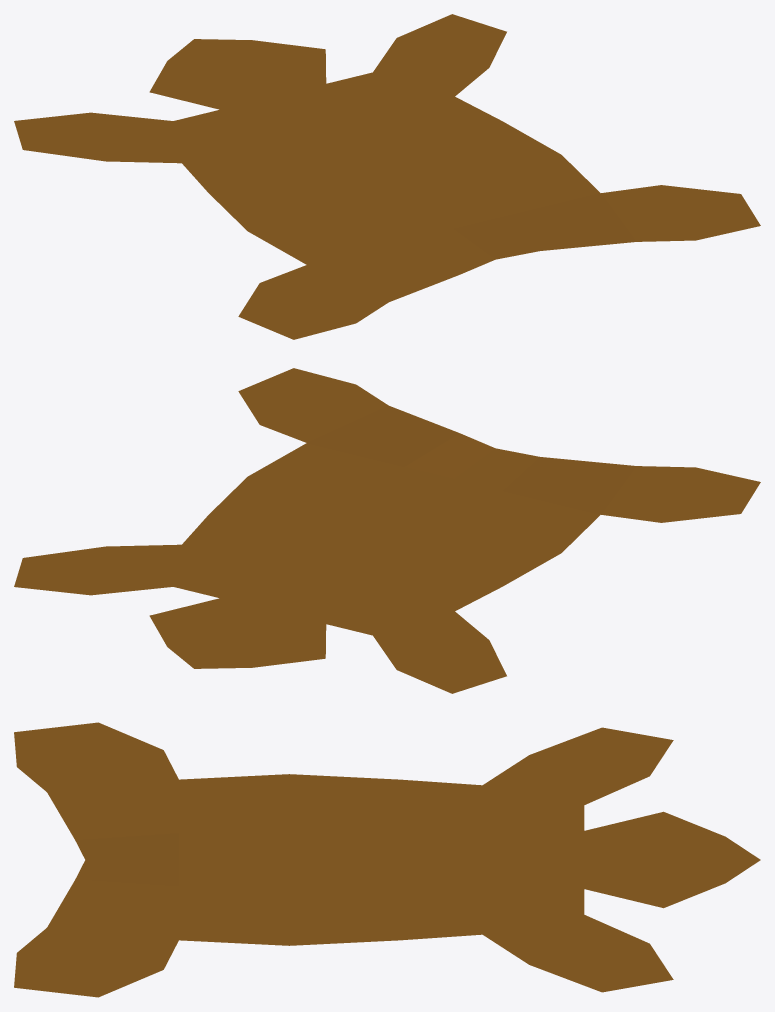
File: BearSkin.fbx
3 views of the same model, one above another, from view 1: azimuth 30°, elevation 25°; view 2: azimuth 150°, elevation 25°; view 3: azimuth 270°, elevation 25° (orthographic). The views are drawn at different scales.
Parts seen in each view (by area): view 1: VillagerBearSkin; view 2: VillagerBearSkin; view 3: VillagerBearSkin.
Part boxes in pixels (x1,y1,x2,y2): VillagerBearSkin: [14, 14, 760, 339]; VillagerBearSkin: [14, 368, 760, 693]; VillagerBearSkin: [14, 722, 760, 997].
Size of the model in its own units: 112 by 0.8705 by 129.
